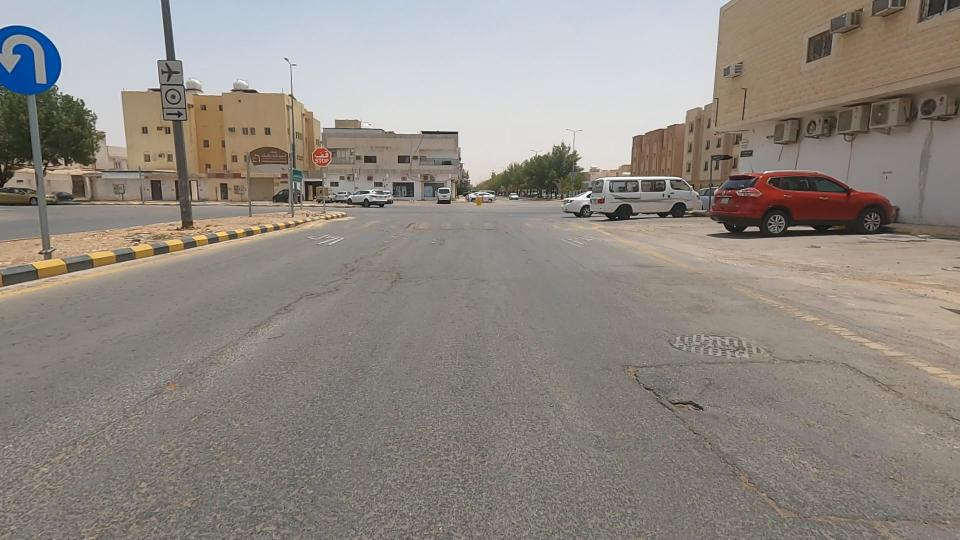POTHOLES: (559, 292, 783, 474), (249, 213, 439, 335), (356, 195, 463, 257)
